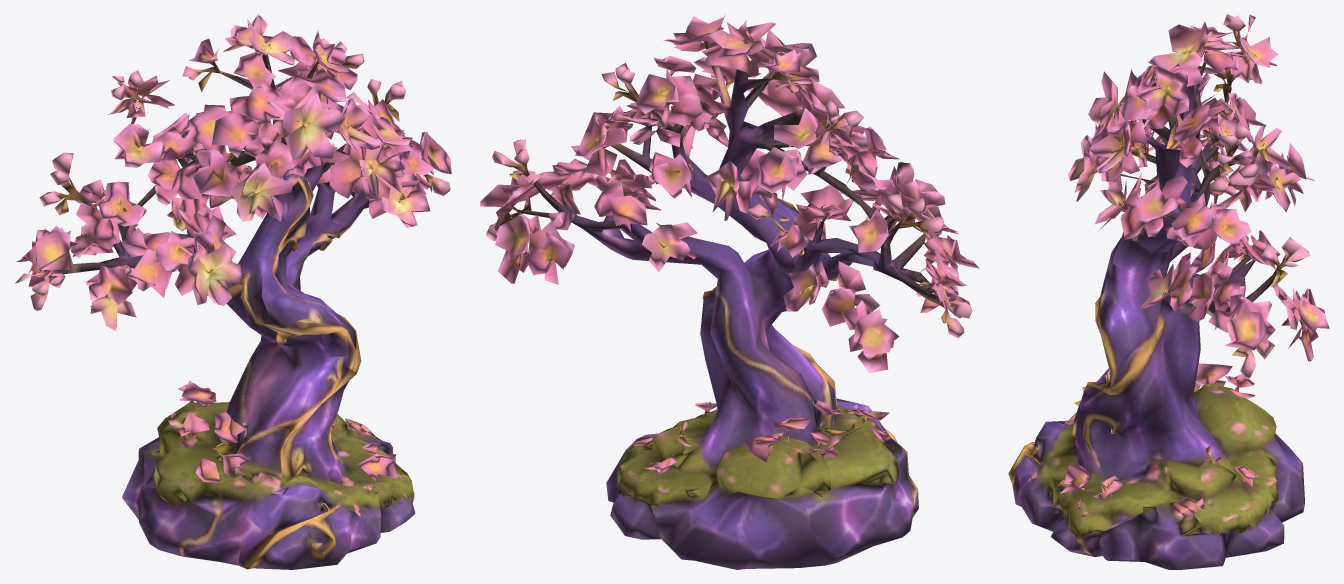
The model's file is blossom-tree.low.glb.
3 renders of one model, left to right at view 1: azimuth 30°, elevation 25°; view 2: azimuth 150°, elevation 25°; view 3: azimuth 270°, elevation 25°, orthographic. The views are drawn at different scales.
Parts seen in each view (by area): view 1: tripo_node_fba2f8da-5170-48e9-ae1e-a088e1c435ea; view 2: tripo_node_fba2f8da-5170-48e9-ae1e-a088e1c435ea; view 3: tripo_node_fba2f8da-5170-48e9-ae1e-a088e1c435ea.
Boxes of the visible parts, left/top/right/bottom form: tripo_node_fba2f8da-5170-48e9-ae1e-a088e1c435ea: left=15, top=14, right=451, bottom=569; tripo_node_fba2f8da-5170-48e9-ae1e-a088e1c435ea: left=480, top=15, right=979, bottom=569; tripo_node_fba2f8da-5170-48e9-ae1e-a088e1c435ea: left=1008, top=14, right=1329, bottom=569.
Bounding box in the file's own units: 7.28 × 7.39 × 4.44.
1 material, 1 textured.
